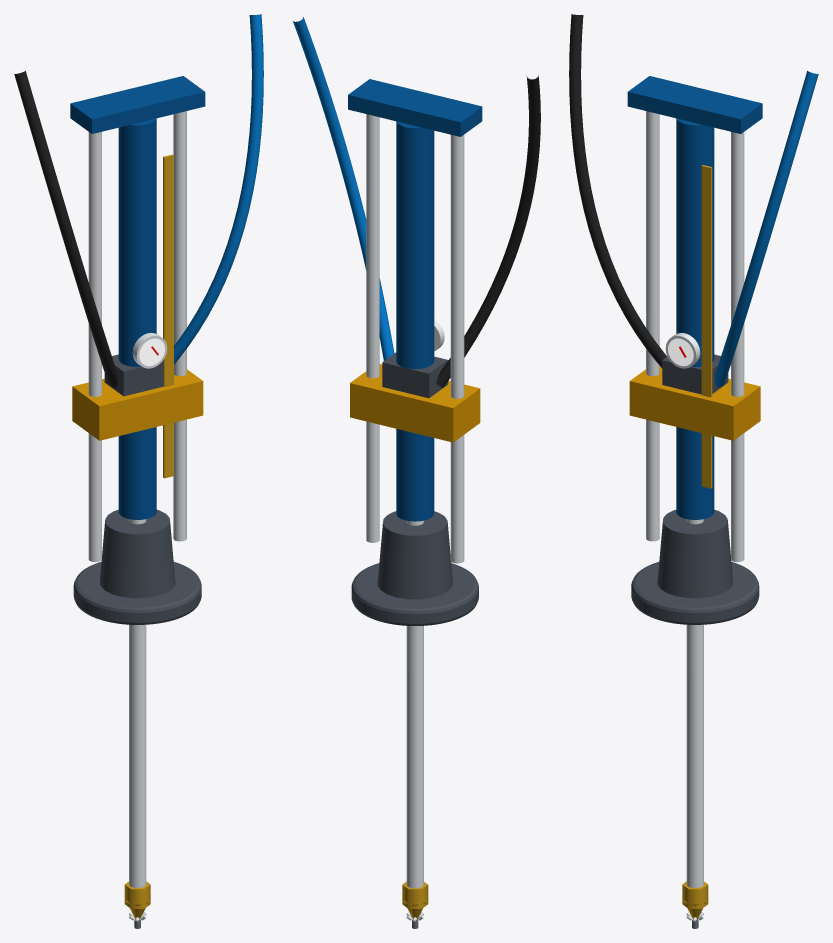
File: lechler_retractable_lance.glb
The picture shows the model from 3 angles, left to right: view 1: azimuth 30°, elevation 25°; view 2: azimuth 150°, elevation 25°; view 3: azimuth 330°, elevation 25°; orthographic projection.
Visible parts, largest first — view 1: LechlerRetractableSprayLance, TravelingCarriage, LechlerVarioJetNozzleHead; view 2: LechlerRetractableSprayLance, TravelingCarriage, LechlerVarioJetNozzleHead; view 3: LechlerRetractableSprayLance, TravelingCarriage, LechlerVarioJetNozzleHead.
Boxes of the visible parts, x1=… form: LechlerRetractableSprayLance: x1=14, y1=14, x2=263, y2=624; TravelingCarriage: x1=72, y1=333, x2=203, y2=887; LechlerVarioJetNozzleHead: x1=124, y1=881, x2=150, y2=928; LechlerRetractableSprayLance: x1=293, y1=17, x2=540, y2=625; TravelingCarriage: x1=350, y1=320, x2=480, y2=888; LechlerVarioJetNozzleHead: x1=402, y1=881, x2=428, y2=928; LechlerRetractableSprayLance: x1=569, y1=14, x2=818, y2=624; TravelingCarriage: x1=629, y1=333, x2=760, y2=887; LechlerVarioJetNozzleHead: x1=682, y1=881, x2=708, y2=928.
Bounding box in the file's own units: 1.04 × 3.59 × 0.47.
